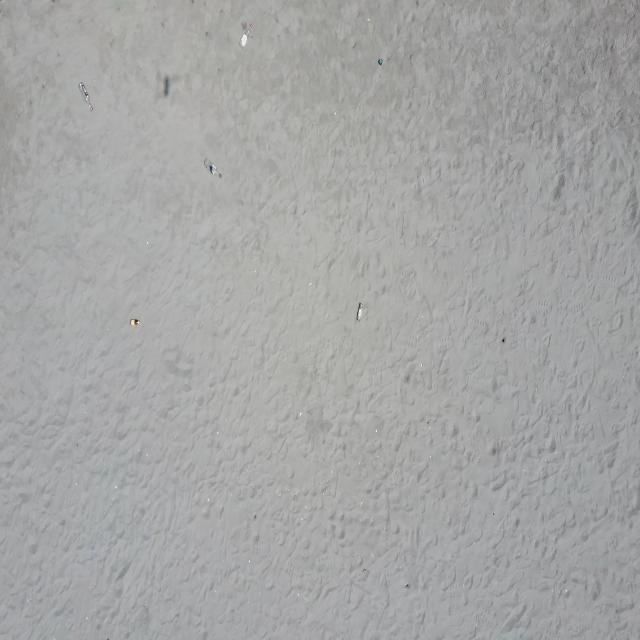glass: (78, 82, 93, 112), (204, 158, 222, 178), (240, 24, 253, 47), (357, 301, 363, 321), (131, 319, 142, 326), (379, 59, 384, 66)
